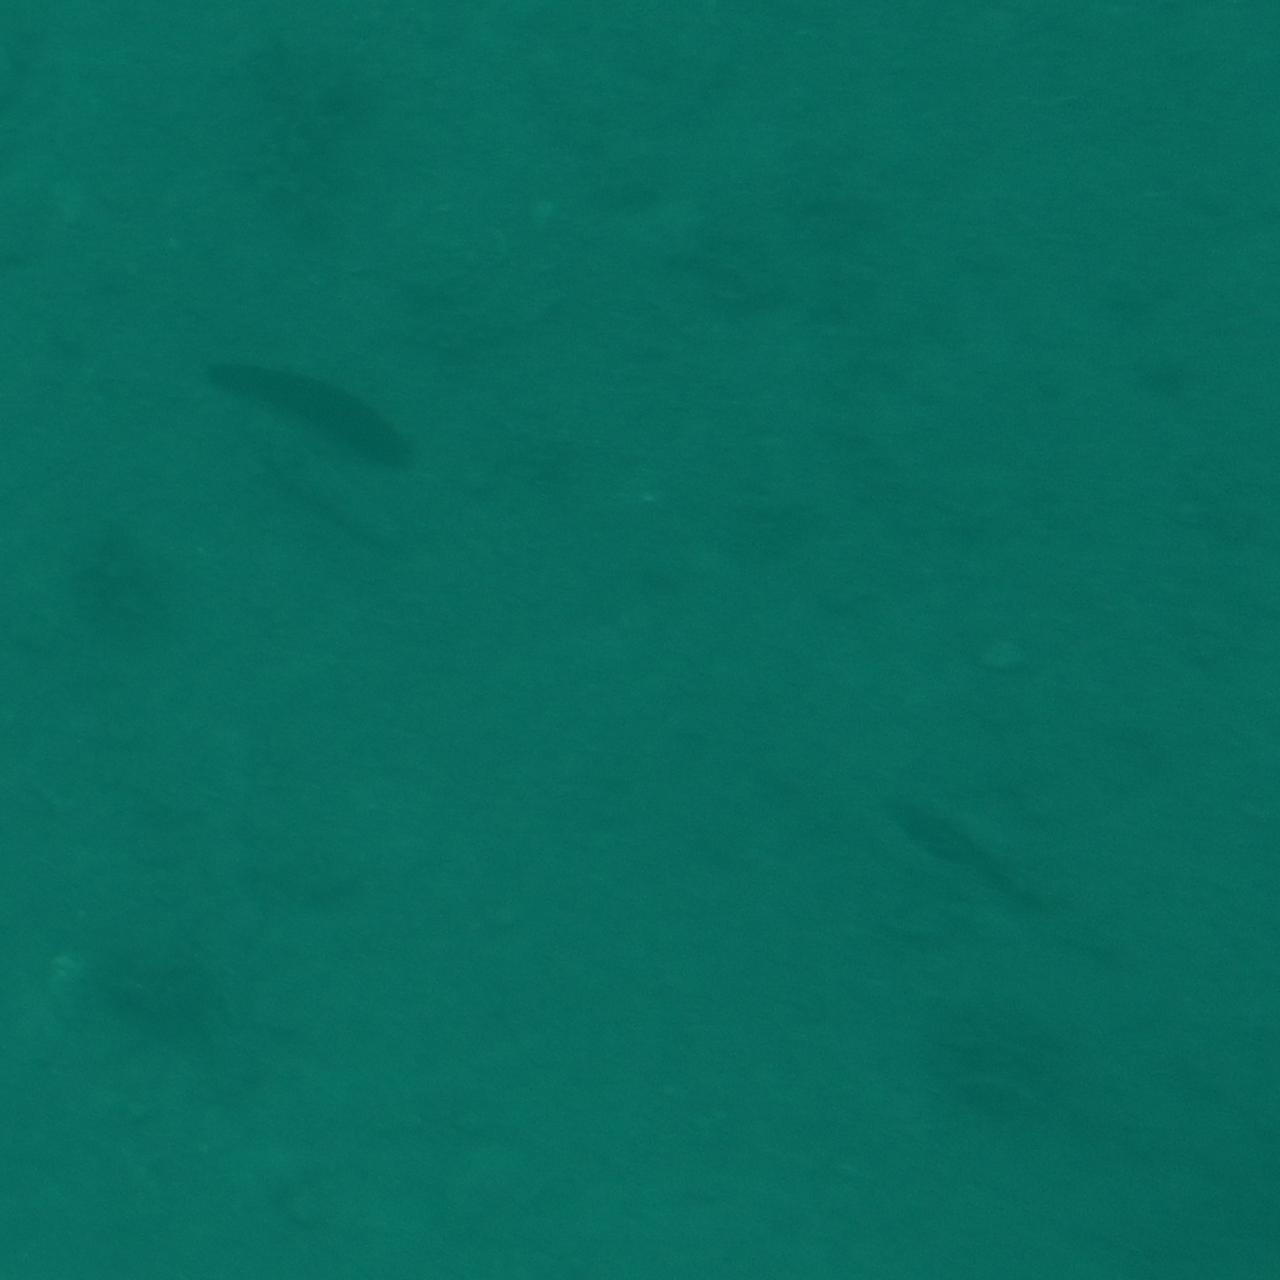Holothuria tubulosa: (163, 300, 451, 566), (881, 753, 1065, 944)
